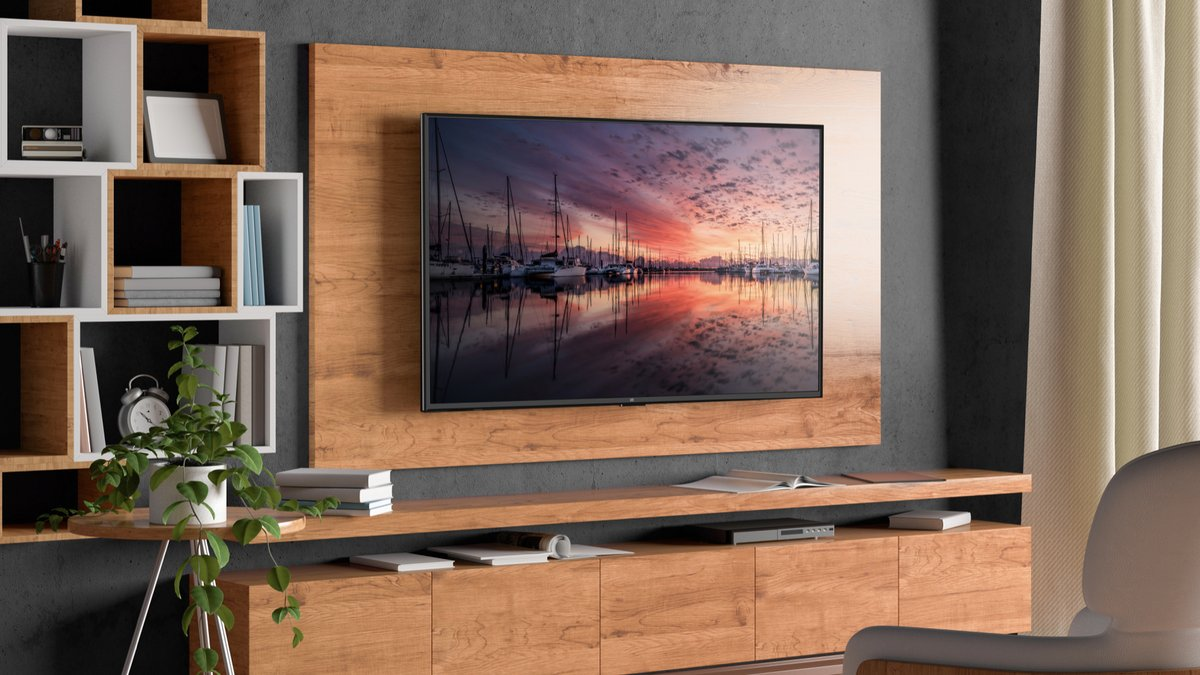buku: (269, 461, 405, 516), (205, 341, 266, 445), (675, 464, 838, 500), (113, 257, 221, 309), (347, 548, 455, 577), (242, 202, 269, 305), (450, 545, 554, 571), (885, 506, 973, 534)
tanaman: (123, 398, 299, 653)
tv: (409, 106, 831, 409)
